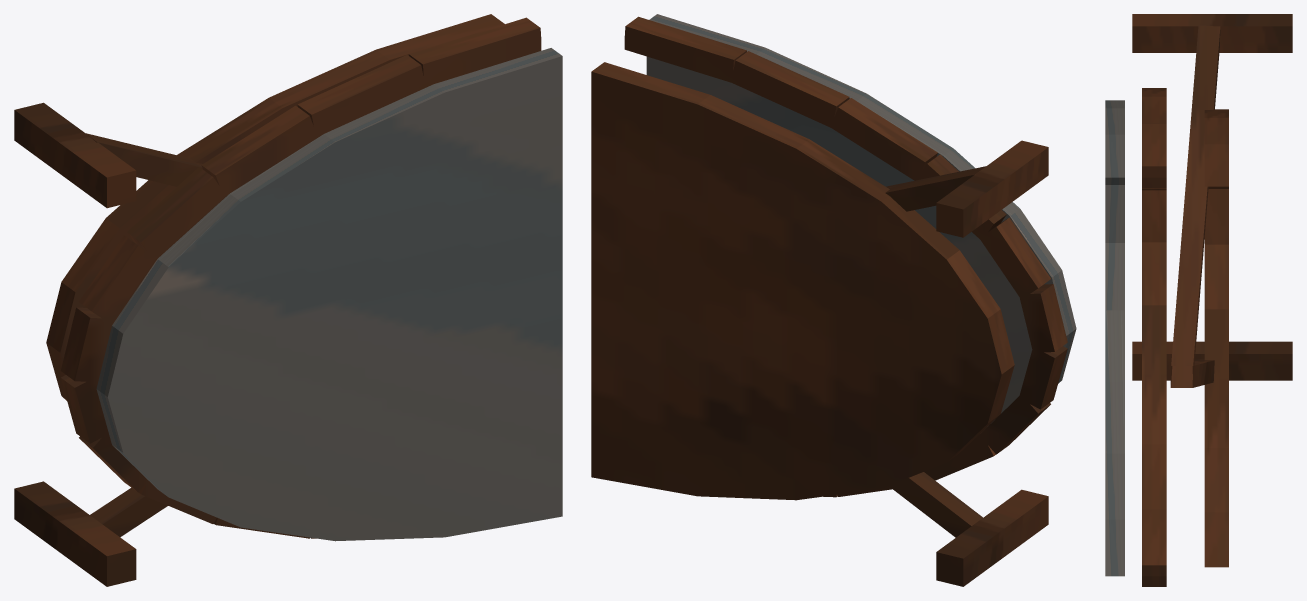
File: pz_table_tables_low_01_fancy_low_glass_0_0.obj
3 views of the same model, side by side, from view 1: azimuth 30°, elevation 25°; view 2: azimuth 150°, elevation 25°; view 3: azimuth 270°, elevation 25° (orthographic). The views are drawn at different scales.
Bounding box in the file's own units: 0.9541 × 0.9499 × 0.3827.
1 material, 1 textured.
